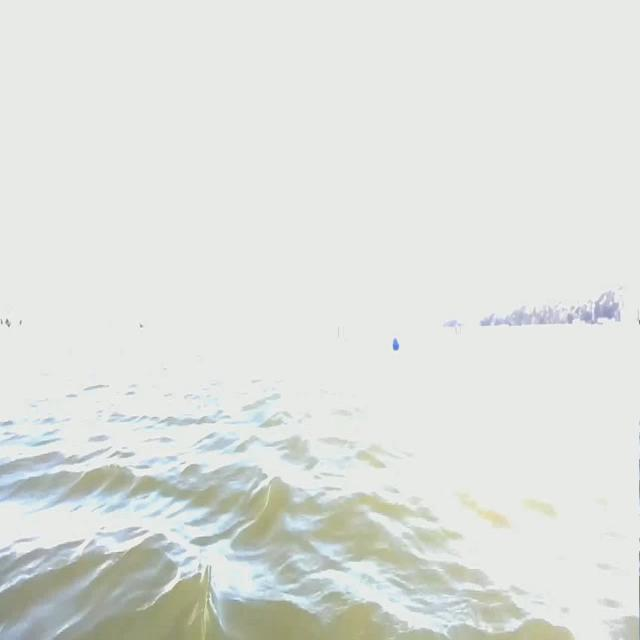blue-buoy: (392, 336, 400, 354)
